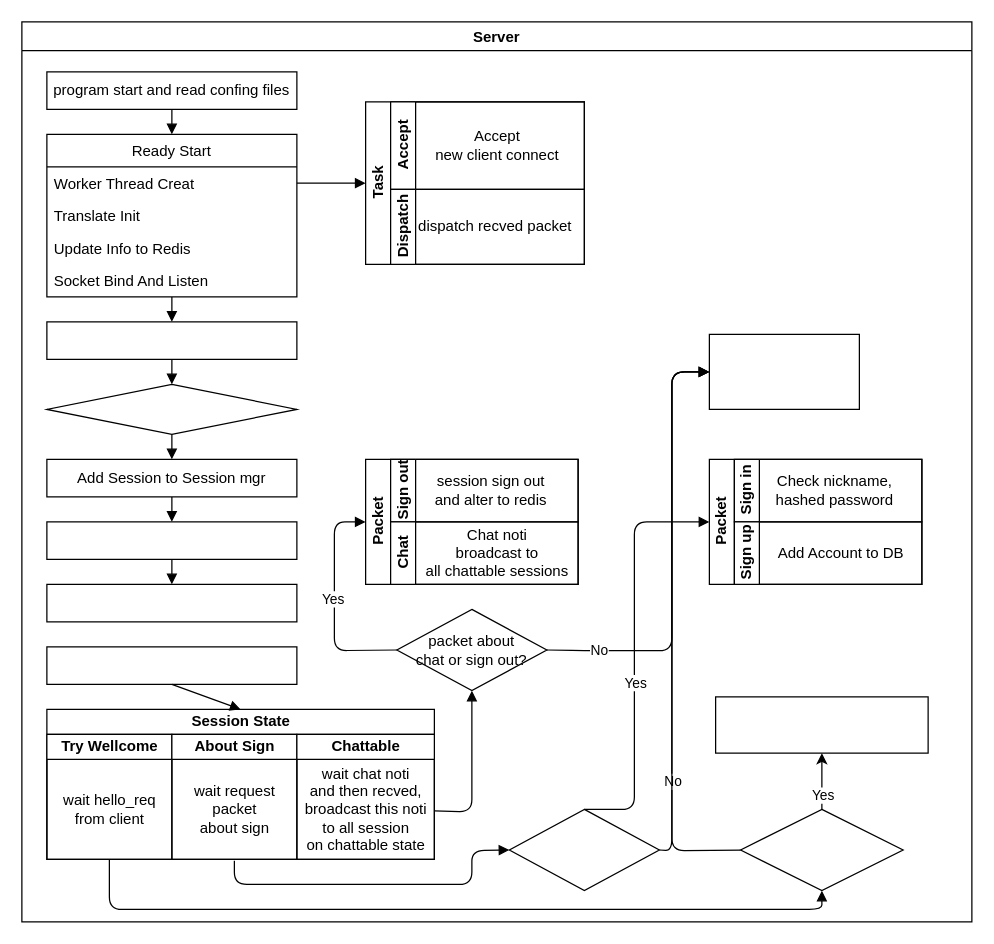
Some shapes in this 994 by 944 pixel diagram are drawn without their labels. Here are the shapes that lost their labels. From the top down, the centre of each, then its label:
At [171,340]: "Start Service and try accept new client".
At [783,371]: "ignore packet for other session's state".
At [171,408]: "Accept new client?".
At [171,540]: "Add SessionKey Data to redis".
At [171,602]: "Do Recv packet from session".
At [171,665]: "dispatch packet and change state".
At [821,724]: "send wellcome_ans and change state to About_sign".
At [583,849]: "packet about sign up, in?".
At [821,849]: "packet about hello_req?".
